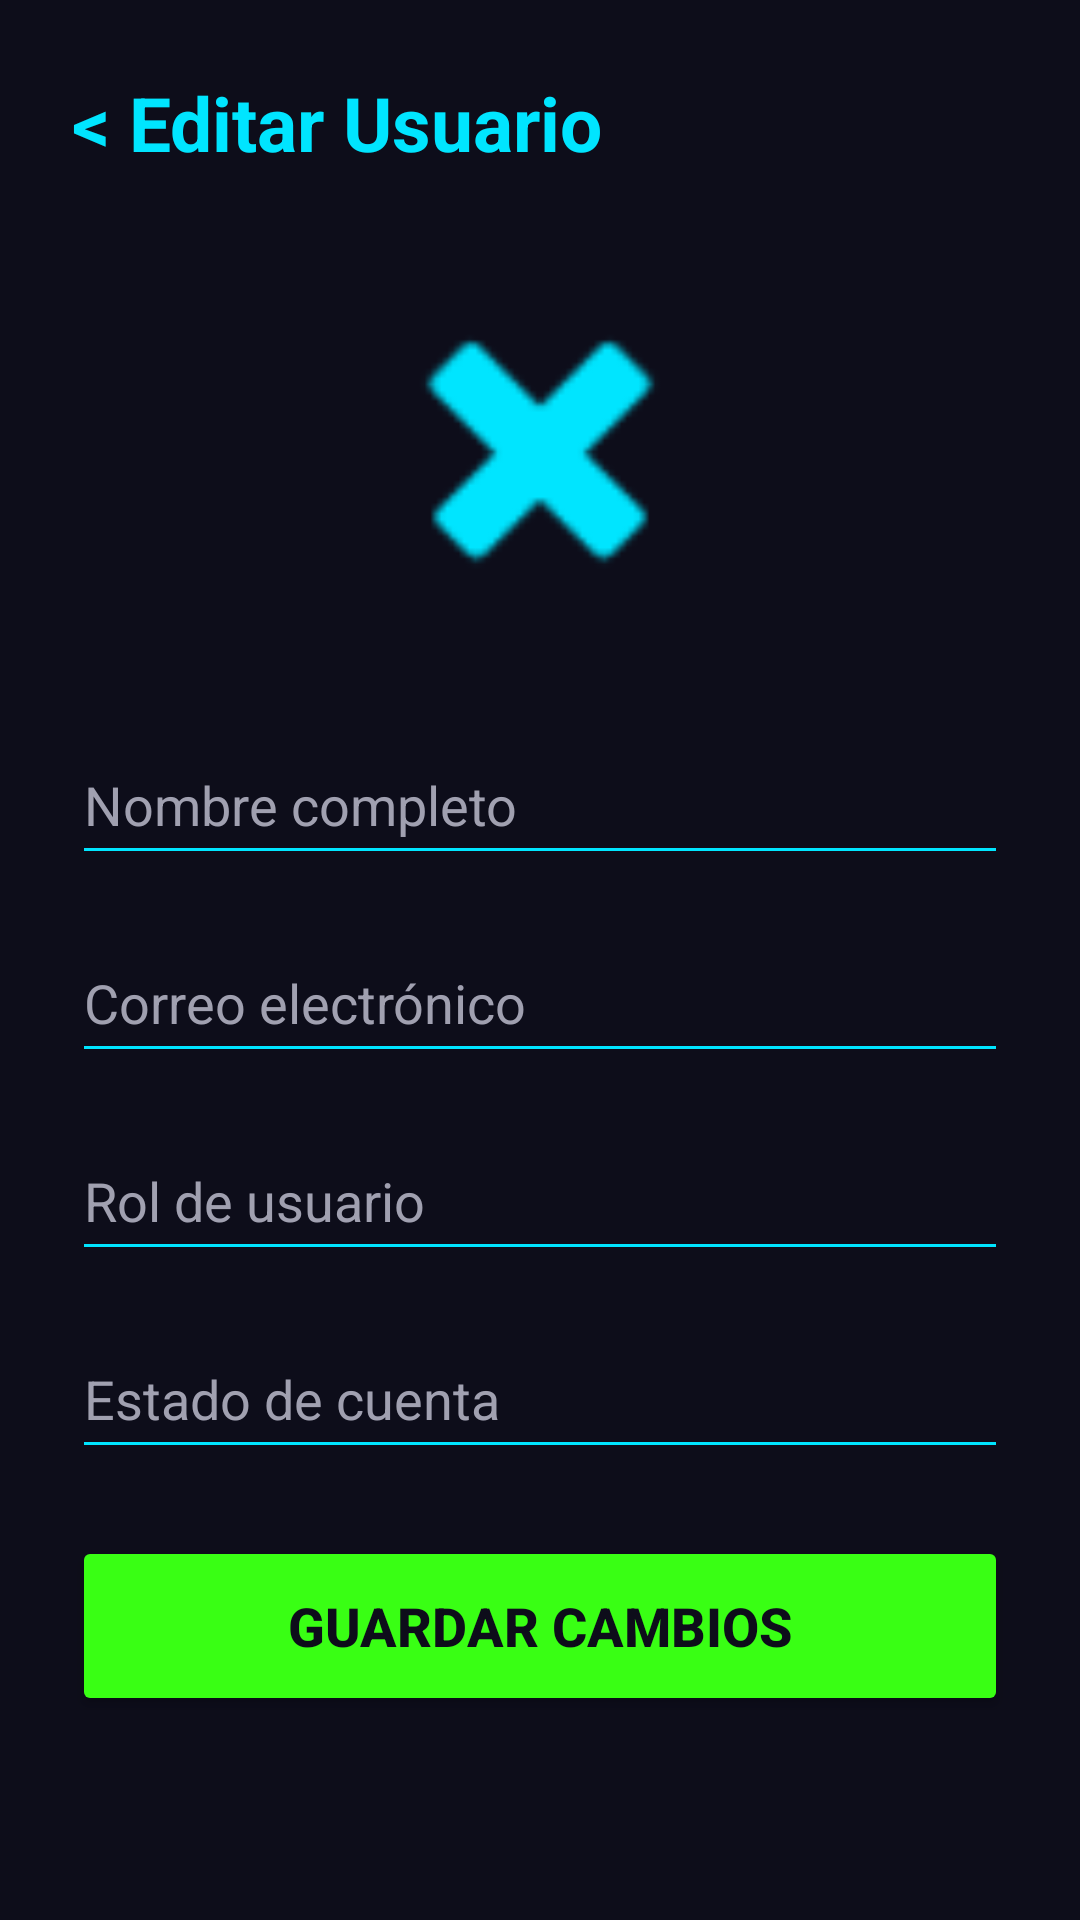

Where to tap for icons on this 1080*1920 app screen, as (x=x, y=y):
delete: (x=540, y=451)
